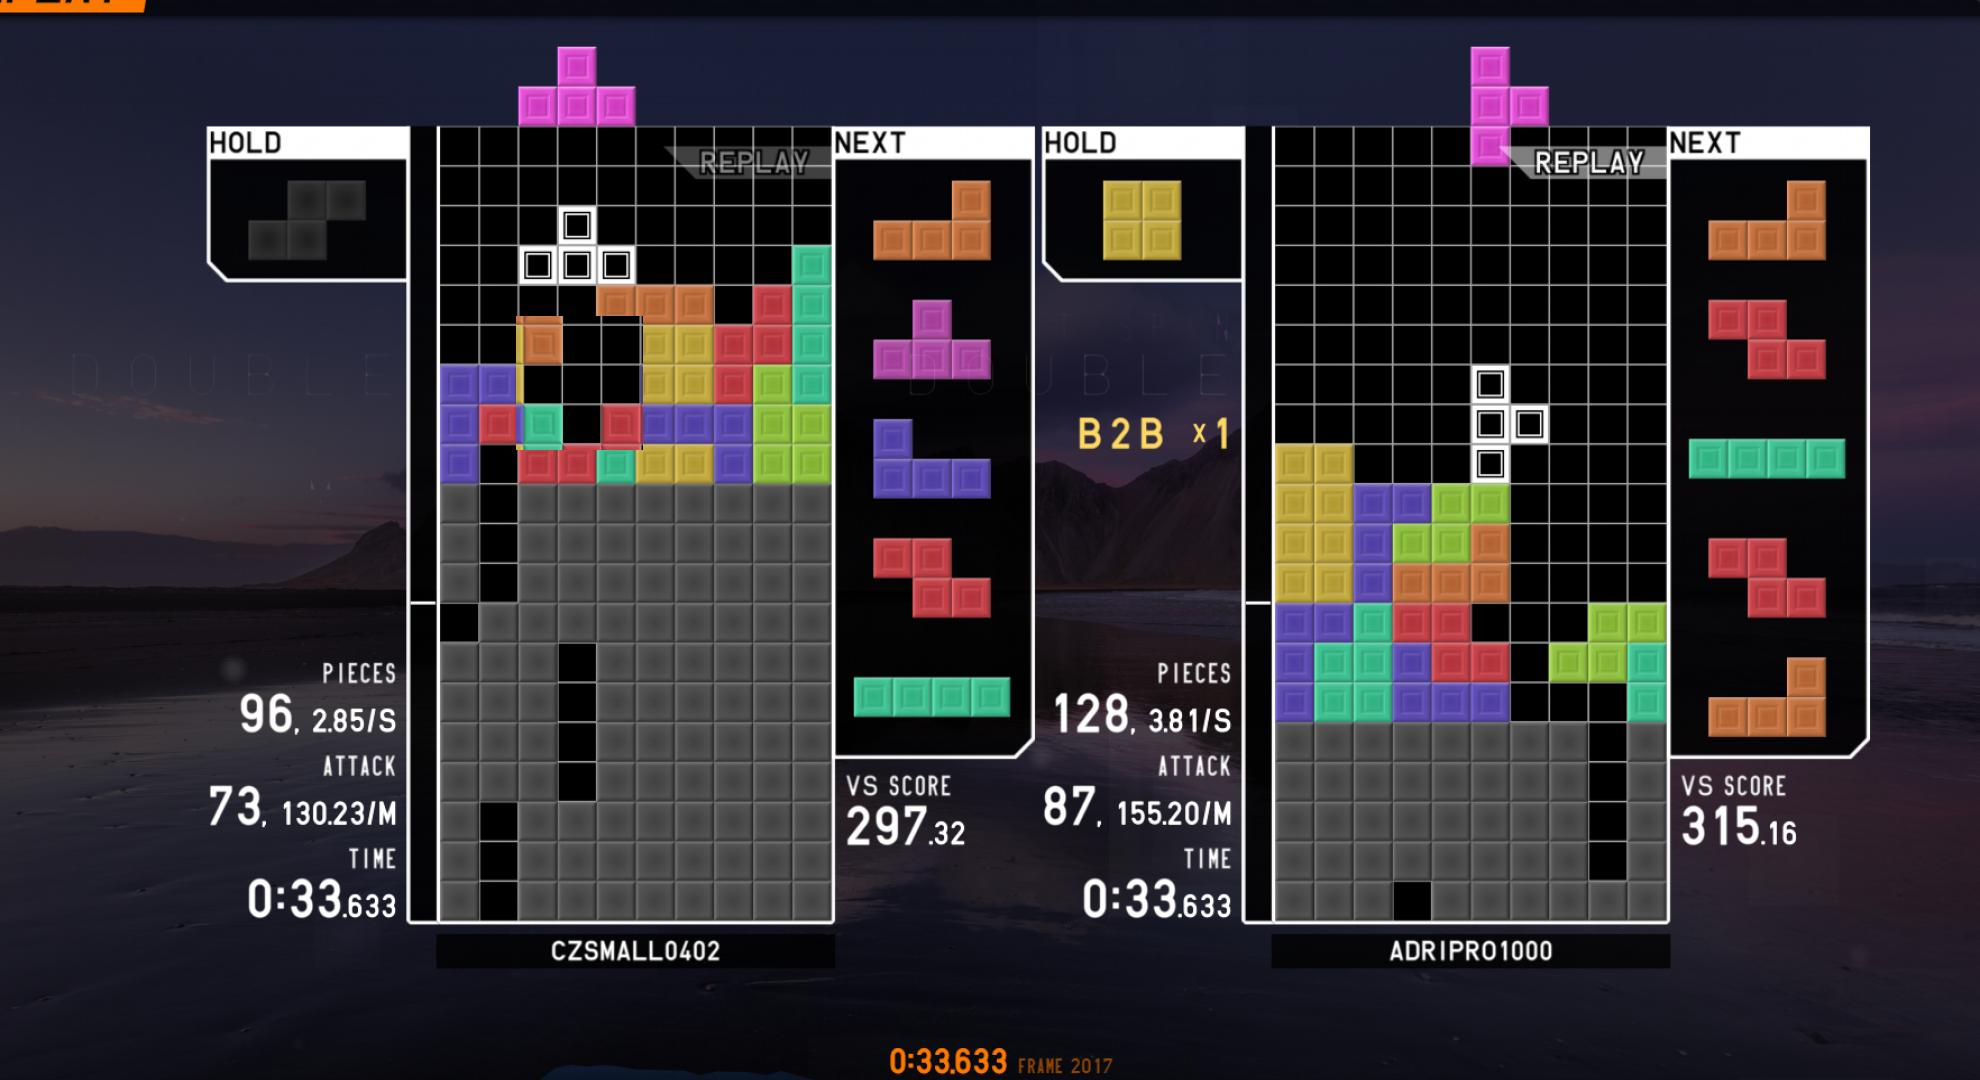tspin: (516, 315, 642, 451), (1472, 560, 1596, 689)
